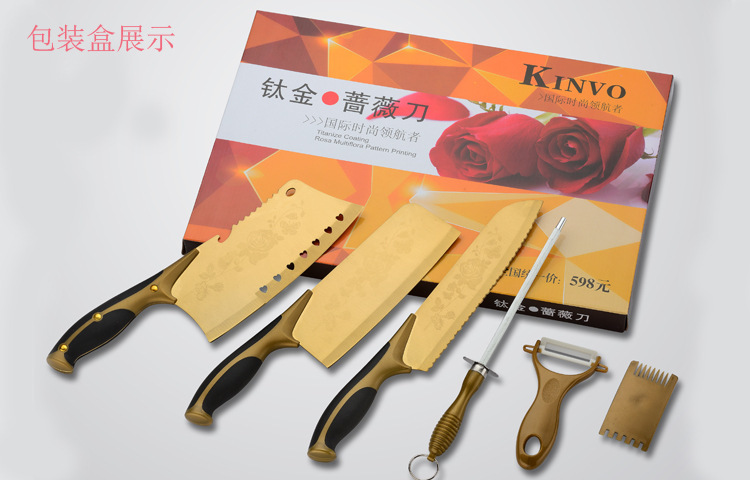knief: (28, 207, 357, 345)
